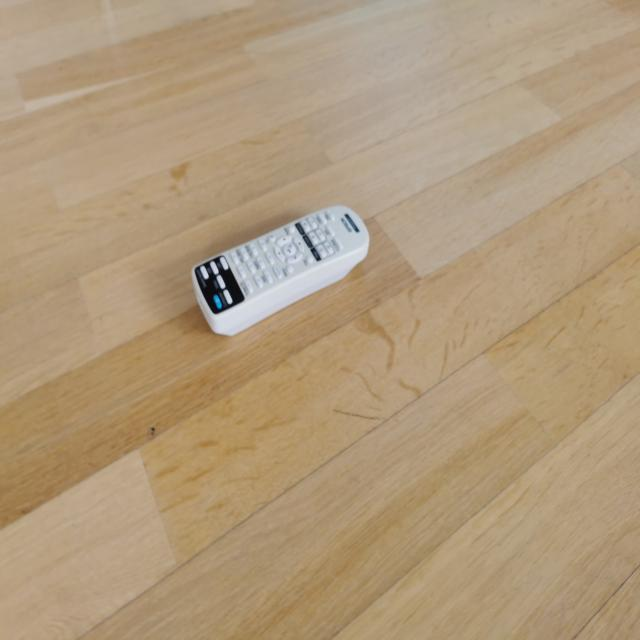remote: (189, 200, 373, 340)
